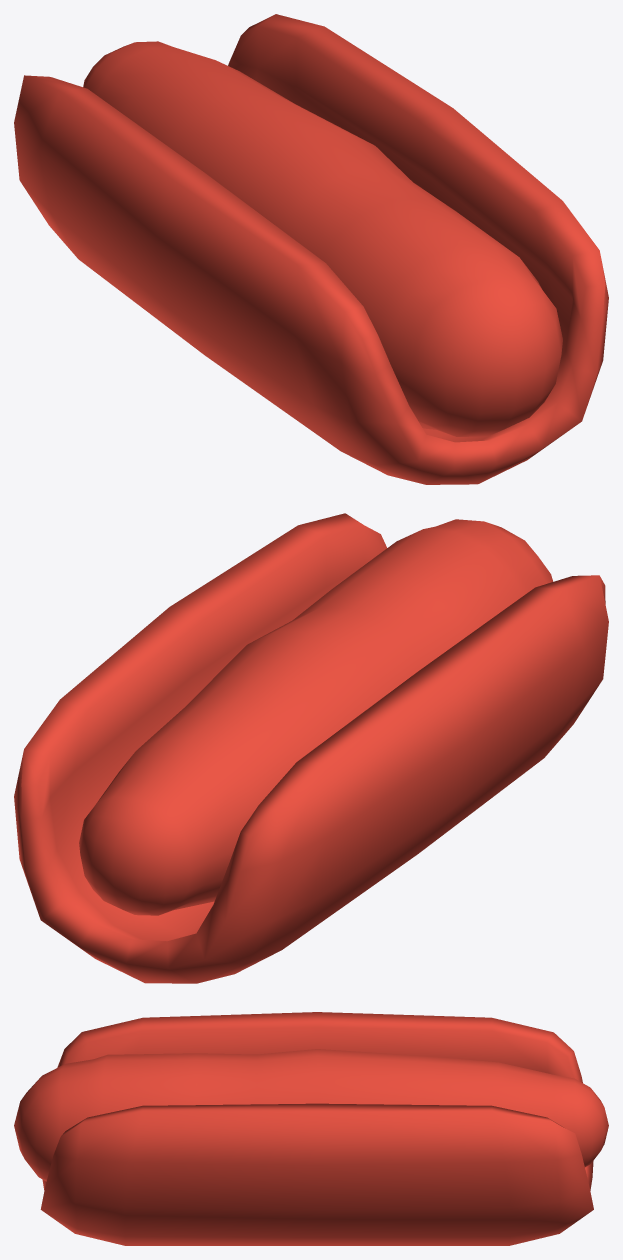
Rendered from Item_HortDorg.fbx.
The picture shows the model from 3 angles, top to bottom: view 1: azimuth 30°, elevation 25°; view 2: azimuth 150°, elevation 25°; view 3: azimuth 270°, elevation 25°; orthographic projection. The views are drawn at different scales.
Visible parts, largest first — view 1: Item_HortDorg; view 2: Item_HortDorg; view 3: Item_HortDorg.
Part boxes in pixels (<box>): Item_HortDorg: <box>14,14,608,484</box>; Item_HortDorg: <box>14,513,608,983</box>; Item_HortDorg: <box>14,1012,608,1245</box>.
Size of the model in its own units: 0.2342 by 0.1777 by 0.5306.
